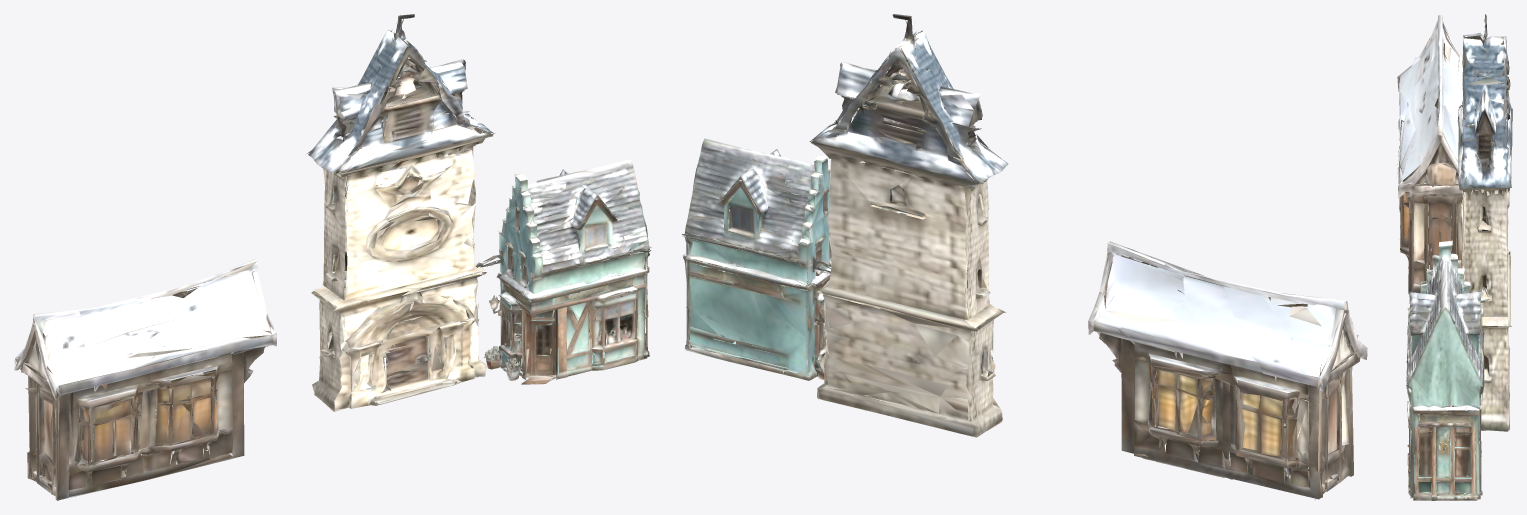
The model's file is window-town.glb.
The picture shows the model from 3 angles, left to right: view 1: azimuth 30°, elevation 25°; view 2: azimuth 150°, elevation 25°; view 3: azimuth 270°, elevation 25°; orthographic projection. The views are drawn at different scales.
Visible parts, largest first — view 1: The workshop, clock and bookseller; view 2: The workshop, clock and bookseller; view 3: The workshop, clock and bookseller.
Boxes of the visible parts, bbox=[...] form: The workshop, clock and bookseller: bbox=[14, 14, 651, 500]; The workshop, clock and bookseller: bbox=[681, 14, 1367, 500]; The workshop, clock and bookseller: bbox=[1397, 14, 1512, 500].
Size of the model in its own units: 2.29 by 1.34 by 0.37.
1 material, 1 textured.
